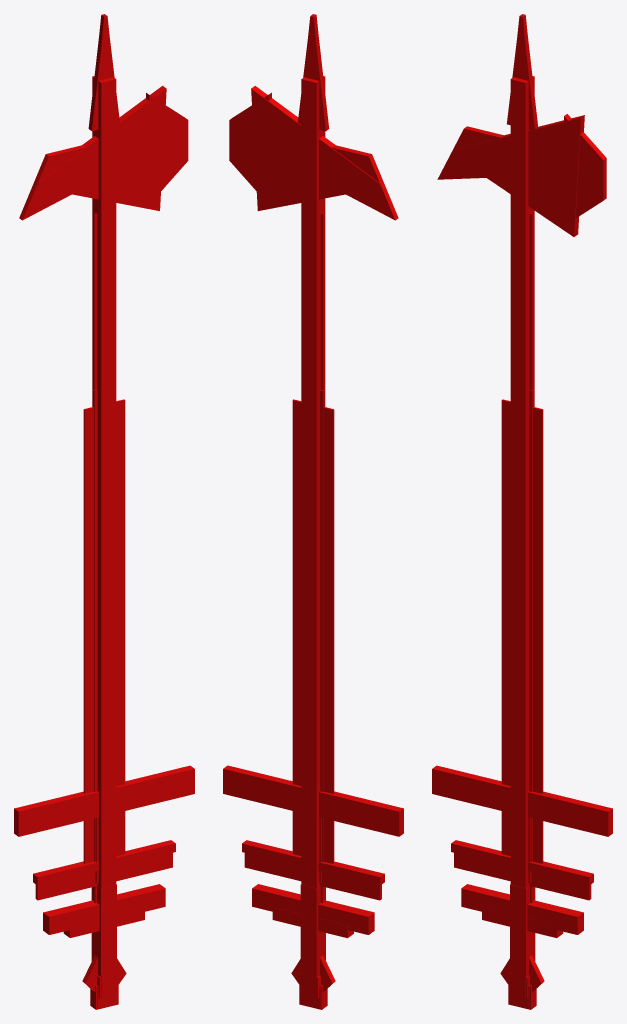
The model's file is WeaponsColliders.fbx.
3 views of the same model, side by side, from view 1: azimuth 30°, elevation 25°; view 2: azimuth 150°, elevation 25°; view 3: azimuth 330°, elevation 25° (orthographic).
Parts seen in each view (by area): view 1: Halberd01Collision, Sword05Collision, Sword02Collision, Halberd02Collision, Sword04Collision, Sword03Collision, Sword01Collision; view 2: Halberd01Collision, Sword05Collision, Sword02Collision, Halberd02Collision, Sword04Collision, Sword03Collision, Sword01Collision; view 3: Halberd01Collision, Sword05Collision, Sword02Collision, Halberd02Collision, Sword04Collision, Sword03Collision, Sword01Collision.
Part boxes in pixels (bbox=[...]): Halberd01Collision: bbox=[38, 14, 166, 998]; Sword05Collision: bbox=[35, 399, 172, 976]; Sword02Collision: bbox=[14, 213, 194, 991]; Halberd02Collision: bbox=[19, 33, 188, 220]; Sword04Collision: bbox=[33, 389, 175, 998]; Sword03Collision: bbox=[43, 884, 165, 1009]; Sword01Collision: bbox=[63, 907, 144, 1008]; Halberd01Collision: bbox=[251, 14, 379, 998]; Sword05Collision: bbox=[244, 399, 381, 976]; Sword02Collision: bbox=[223, 213, 403, 991]; Halberd02Collision: bbox=[229, 33, 398, 220]; Sword04Collision: bbox=[242, 389, 384, 998]; Sword03Collision: bbox=[252, 884, 374, 1009]; Sword01Collision: bbox=[272, 907, 353, 1008]; Halberd01Collision: bbox=[453, 14, 584, 998]; Sword05Collision: bbox=[454, 399, 591, 976]; Sword02Collision: bbox=[432, 213, 612, 991]; Halberd02Collision: bbox=[437, 33, 606, 218]; Sword04Collision: bbox=[451, 389, 593, 998]; Sword03Collision: bbox=[461, 884, 583, 1009]; Sword01Collision: bbox=[482, 907, 563, 1008].
Size of the model in its own units: 46.05 by 247 by 4.17.
